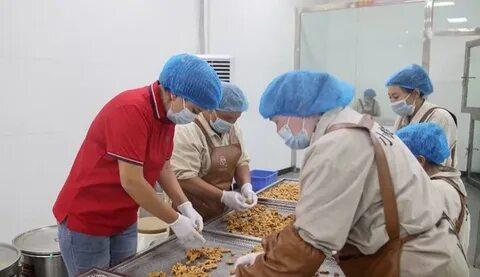hairnet: (257, 68, 360, 117), (156, 47, 226, 117), (394, 115, 461, 165), (217, 67, 257, 119), (393, 64, 450, 92)
mask: (167, 93, 205, 137), (273, 121, 315, 155), (207, 106, 245, 141), (387, 94, 433, 121)
